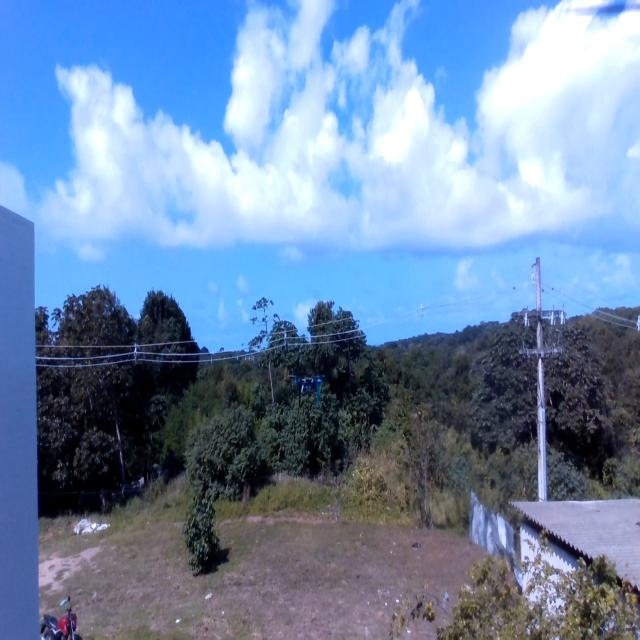-uav-: (282, 363, 334, 416)
